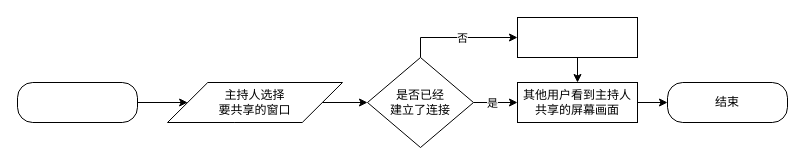
The diagram is 805 pixels wide and 165 high, and some of its shapes have lost their labels. The shapes that lost their labels are listed below. From the top down, each one's centre as x and y in pixels, then its label:
point (577, 37): 客户端之间建立连接
point (77, 102): 开始
